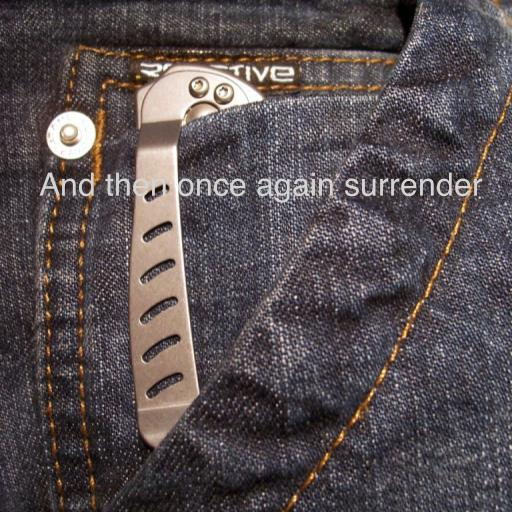SignPainter: (39, 172, 483, 203)
